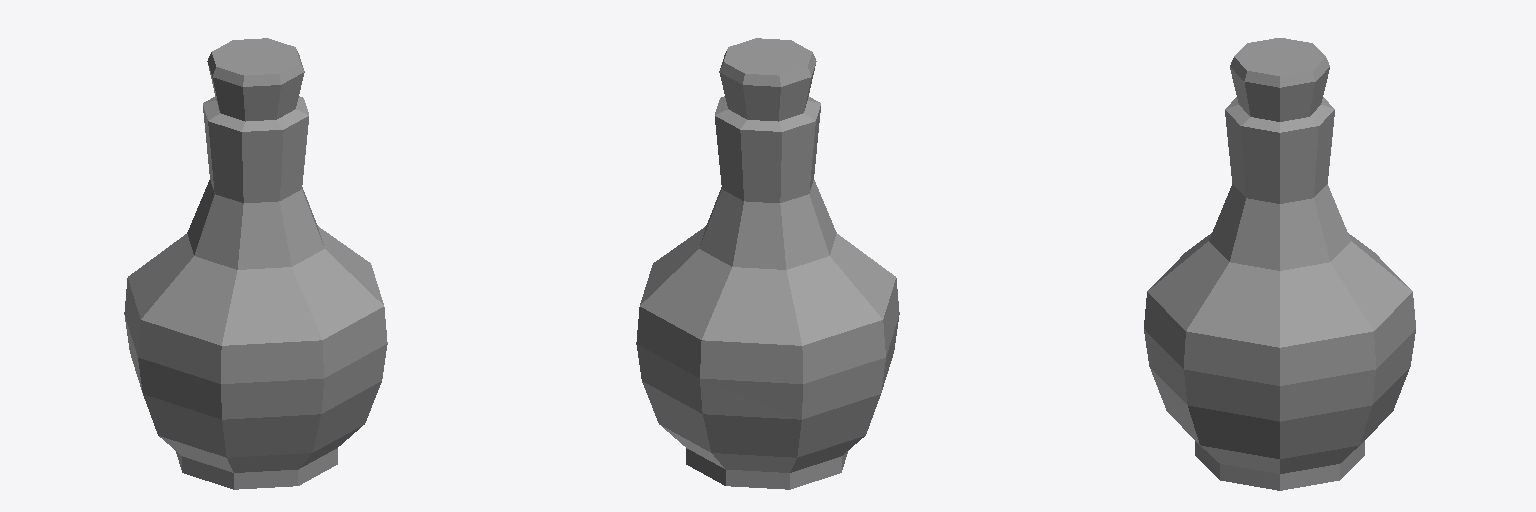
The model's file is green_bottle.obj.
The picture shows the model from 3 angles: view 1: azimuth 30°, elevation 25°; view 2: azimuth 150°, elevation 25°; view 3: azimuth 270°, elevation 25°; orthographic projection.
Parts seen in each view (by area): view 1: small_health_poti.001_Cylinder.006; view 2: small_health_poti.001_Cylinder.006; view 3: small_health_poti.001_Cylinder.006.
Part boxes in pixels (left/top/right/bottom): small_health_poti.001_Cylinder.006: left=124, top=38, right=387, bottom=489; small_health_poti.001_Cylinder.006: left=636, top=38, right=899, bottom=489; small_health_poti.001_Cylinder.006: left=1144, top=38, right=1415, bottom=490.
Size of the model in its own units: 0.2746 by 0.4426 by 0.2746.